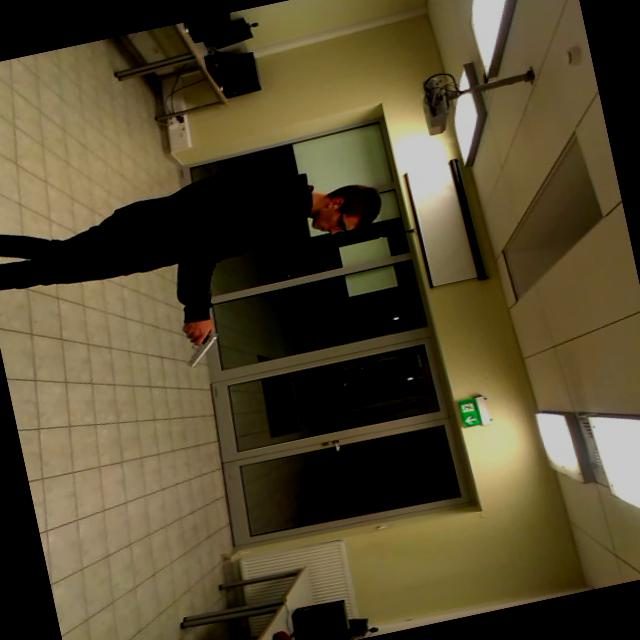handgun: (167, 316, 240, 376)
